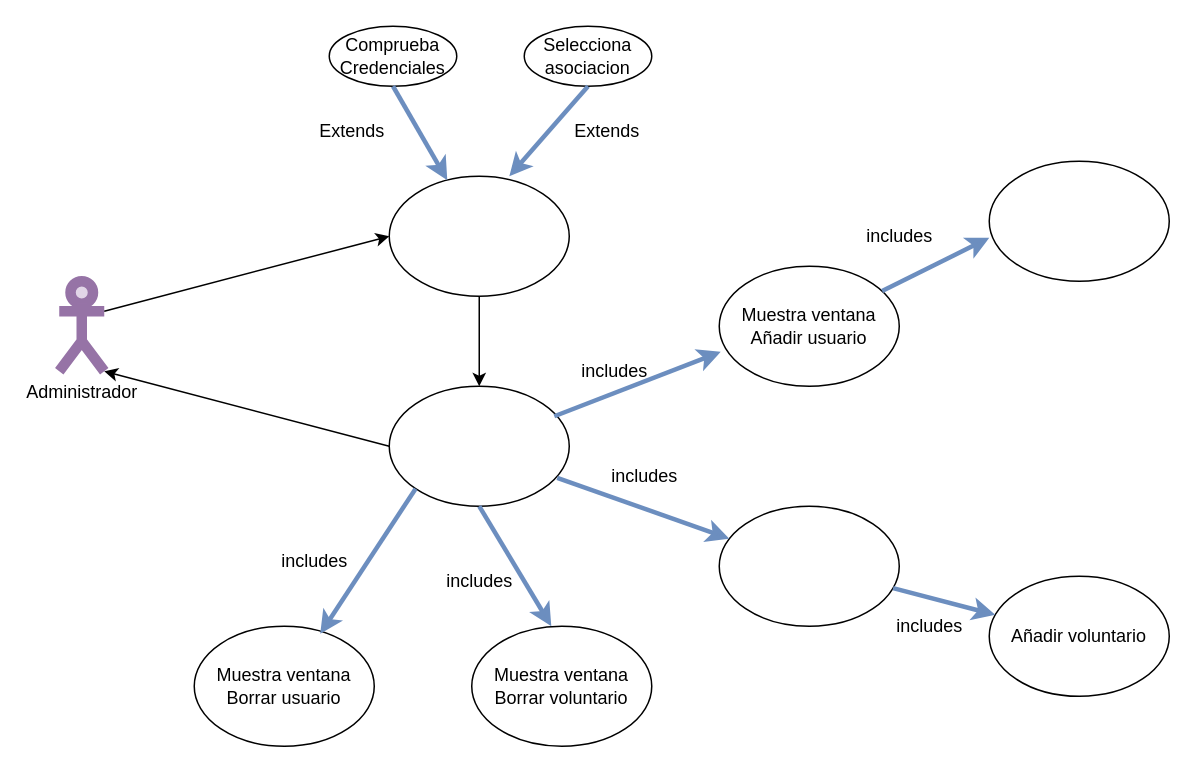
The diagram is 1196 pixels wide and 773 high, and some of its shapes have lost their labels. Here are the shapes that lost their labels. From the top down, the box of each, then its label:
(388, 175, 569, 296): Login
(988, 160, 1169, 281): Añadir usuario
(388, 385, 569, 506): Muestra ventana opciones
(718, 505, 899, 626): Muestra ventana Añadir voluntario
